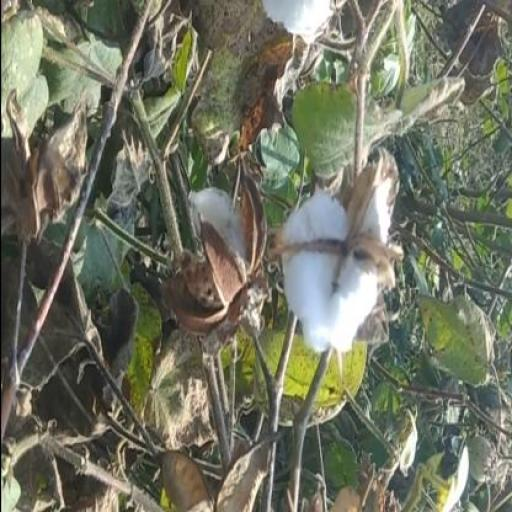cotton_ready: (277, 168, 413, 344)
